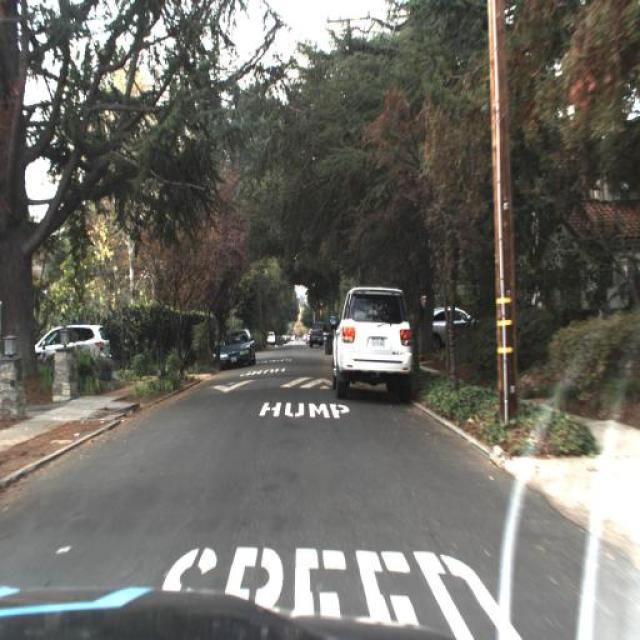car: (328, 282, 414, 398), (36, 320, 110, 368), (218, 328, 252, 381), (432, 300, 477, 330), (308, 320, 328, 348), (262, 327, 276, 348)
